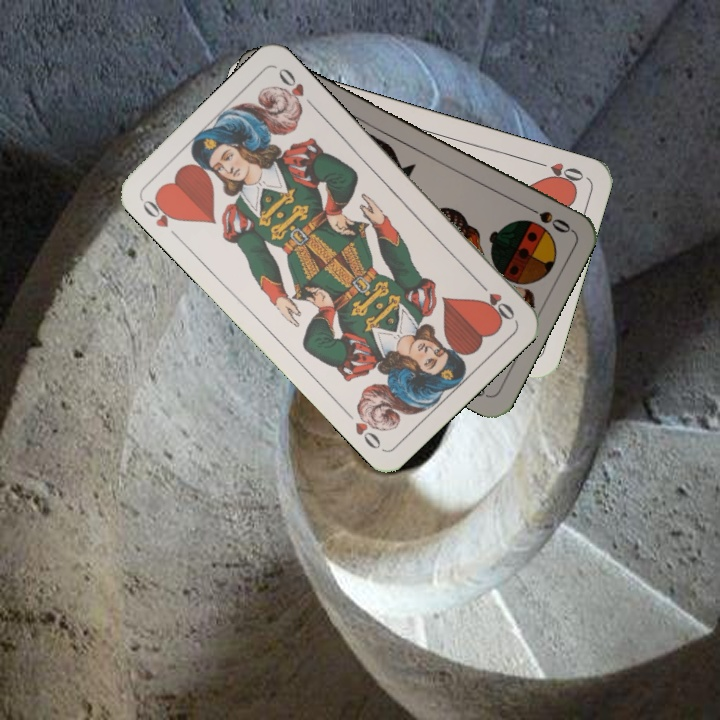HO: (472, 276, 518, 323), (530, 156, 587, 188), (137, 191, 182, 231)
SO: (519, 200, 574, 236)
